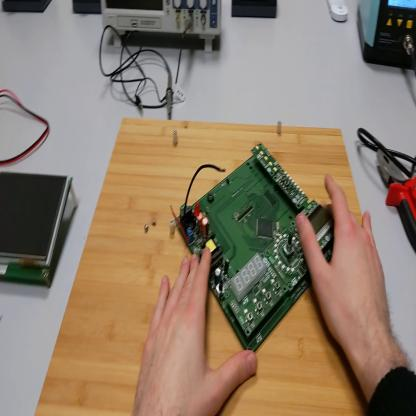hand: (134, 245, 259, 416), (295, 172, 394, 362)
low voltage board: (173, 142, 337, 352)
oscilloscope: (103, 2, 224, 53)
oscilloscope probe tip: (166, 64, 175, 123)
pliers: (378, 146, 416, 253)
socket: (3, 2, 53, 18), (74, 1, 103, 18)
welder station: (358, 2, 416, 72)
working area: (36, 128, 372, 415)
